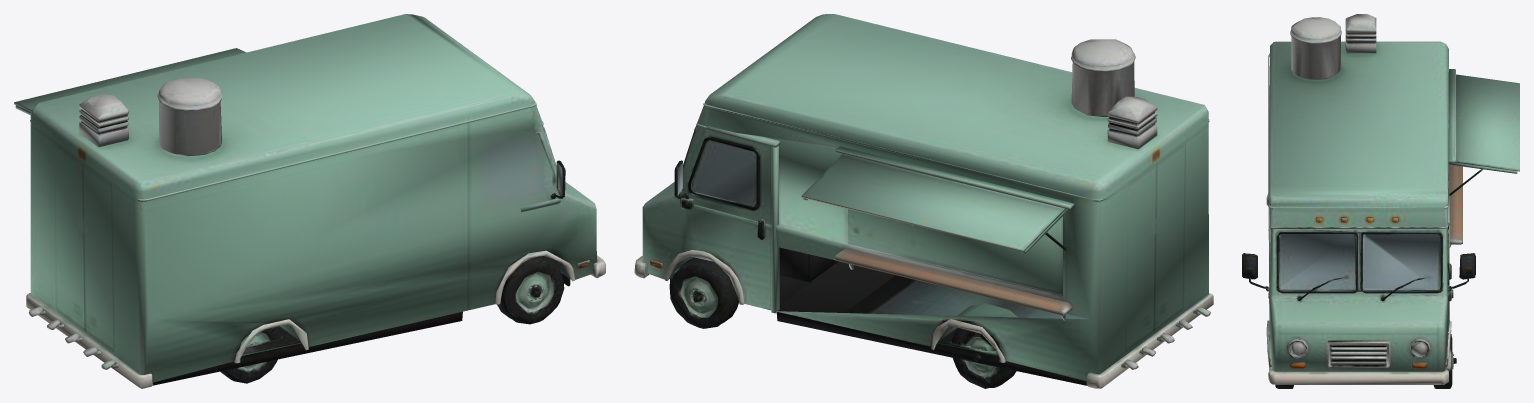
File: foodTruck.glb
3 views of the same model, side by side, from view 1: azimuth 30°, elevation 25°; view 2: azimuth 150°, elevation 25°; view 3: azimuth 270°, elevation 25° (orthographic). The views are drawn at different scales.
Parts seen in each view (by area): view 1: tripo_node_3ca18cb0-cd7b-4db4-a30b-276d2bdfaffa; view 2: tripo_node_3ca18cb0-cd7b-4db4-a30b-276d2bdfaffa; view 3: tripo_node_3ca18cb0-cd7b-4db4-a30b-276d2bdfaffa.
Boxes of the visible parts, left/top/right/bottom form: tripo_node_3ca18cb0-cd7b-4db4-a30b-276d2bdfaffa: left=14, top=14, right=605, bottom=388; tripo_node_3ca18cb0-cd7b-4db4-a30b-276d2bdfaffa: left=634, top=14, right=1213, bottom=388; tripo_node_3ca18cb0-cd7b-4db4-a30b-276d2bdfaffa: left=1242, top=14, right=1519, bottom=388.
Bounding box in the file's own units: 0.998 × 0.5879 × 0.6191.
Materials: 1 (1 with a texture image).
